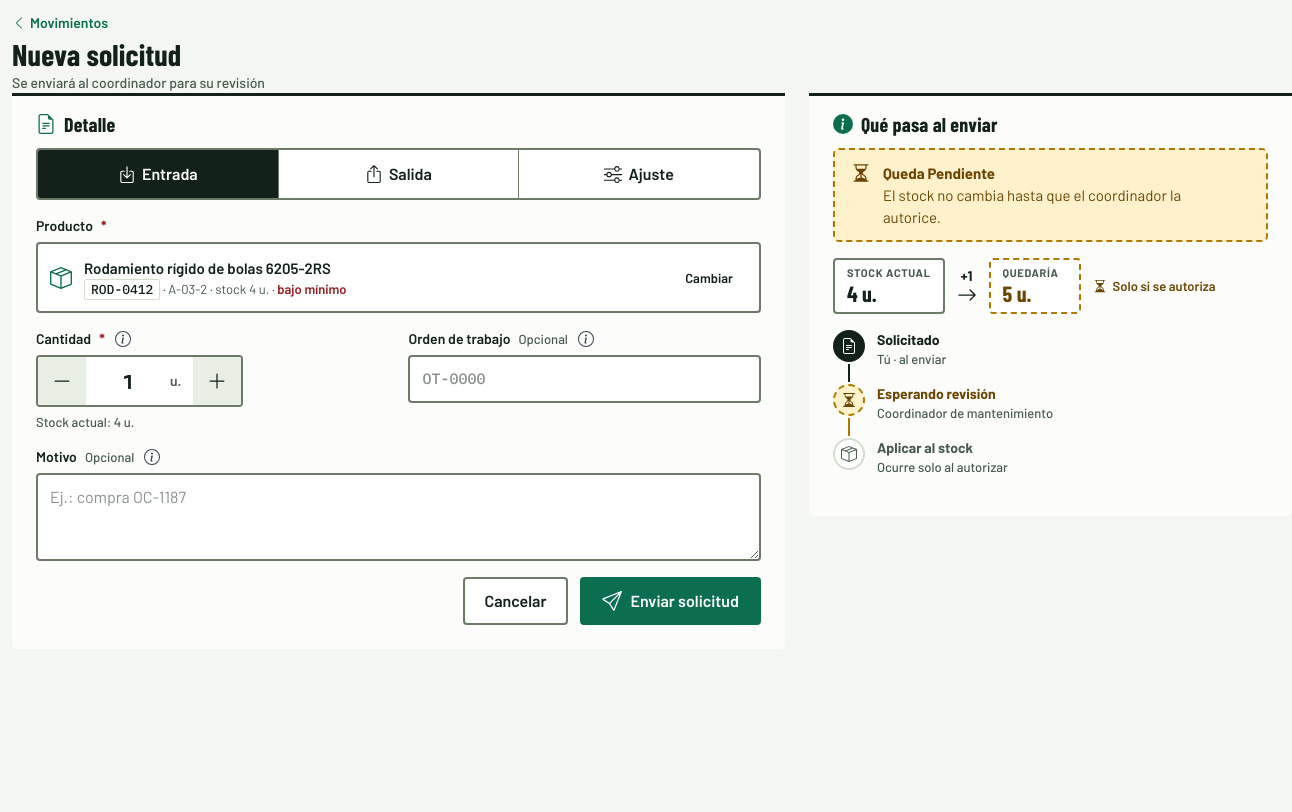
Test: Nueva solicitud › explica por qué una autoaprobación quedó pendiente
This screenshot has width=1292, height=812.
Expected: the text "Rodamiento rígido de bolas 6205-2RS" is shown, [84,259,331,277]
What coordinates should you click on to do the following:
click the button "Enviar solicitud"
I would click on:
 (671, 601)
Its box is [580,577,761,625].
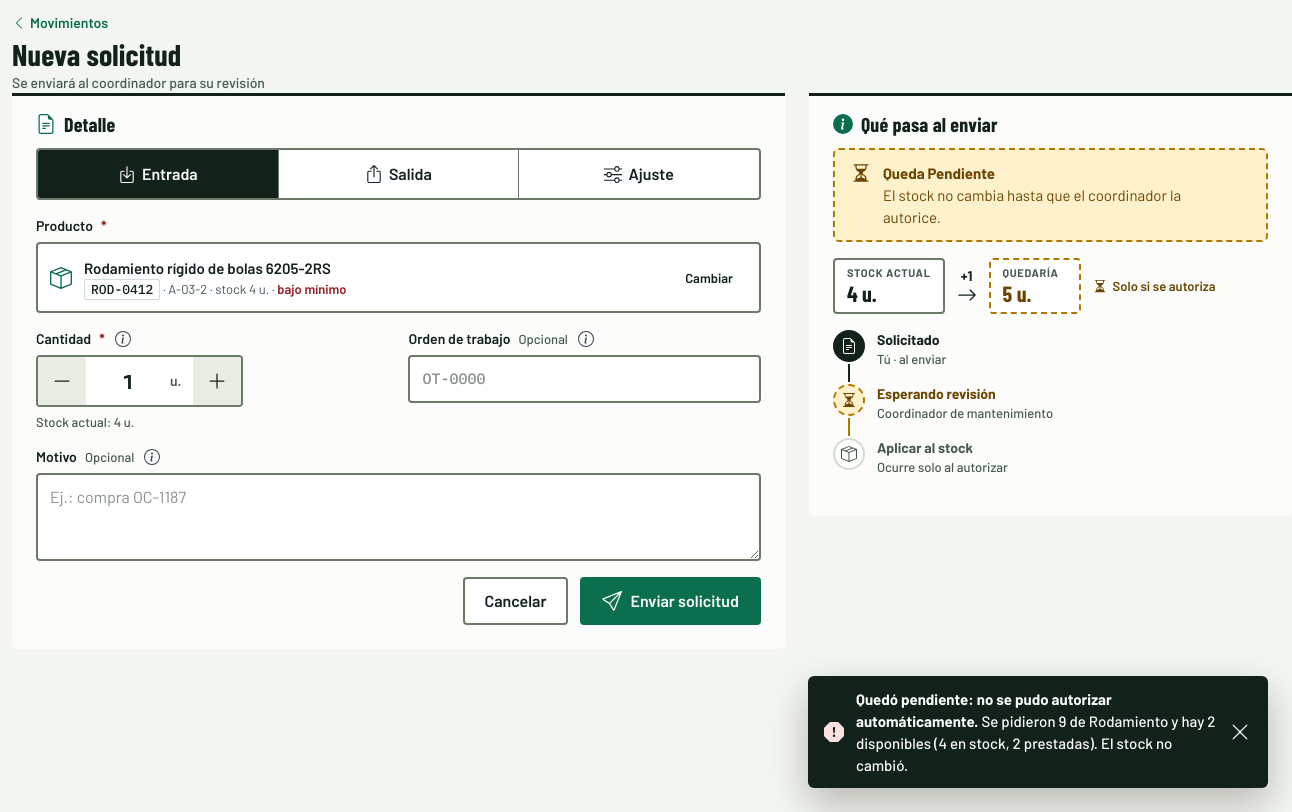
Now the text "Quedó pendiente: no se pudo autorizar automáticamente." is shown, box [856,690,1112,730]
